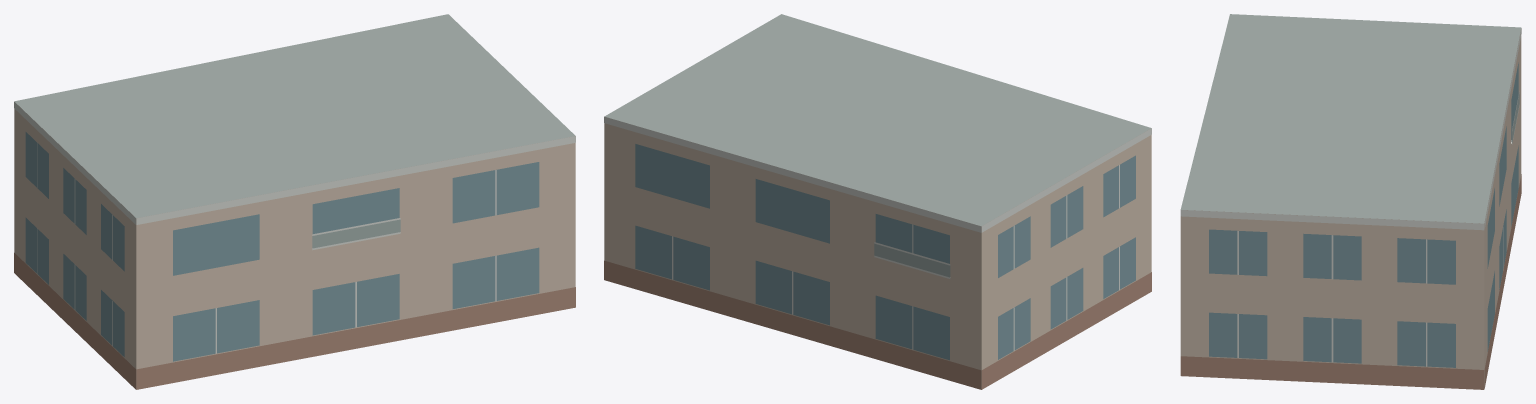
Rendered from survey-upis-32807043.glb.
3 views of the same model, side by side, from view 1: azimuth 30°, elevation 25°; view 2: azimuth 150°, elevation 25°; view 3: azimuth 270°, elevation 25° (orthographic). The views are drawn at different scales.
Parts seen in each view (by area): view 1: survey-upis-32807043.tmp; view 2: survey-upis-32807043.tmp; view 3: survey-upis-32807043.tmp.
Part boxes in pixels (x1,y1,x2,y2): survey-upis-32807043.tmp: (14,14,575,389); survey-upis-32807043.tmp: (604,14,1151,389); survey-upis-32807043.tmp: (1180,14,1521,389).
Size of the model in its own units: 16.5 by 6.1 by 11.34.
